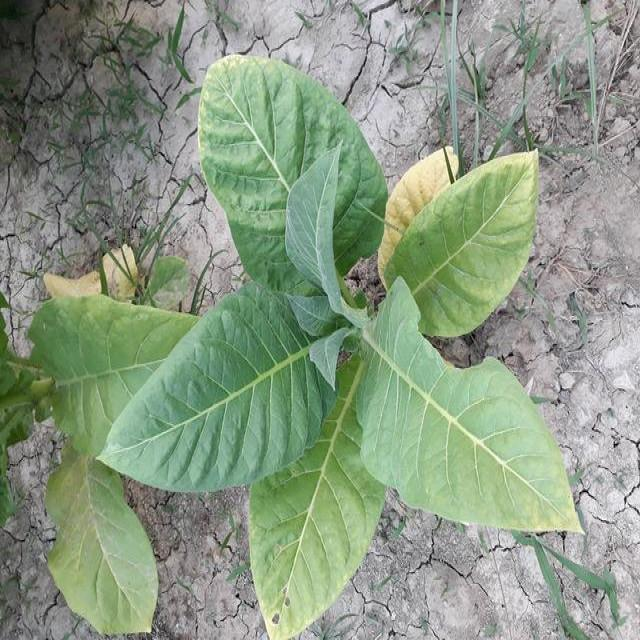crop: (130, 59, 578, 634), (0, 263, 189, 637)
